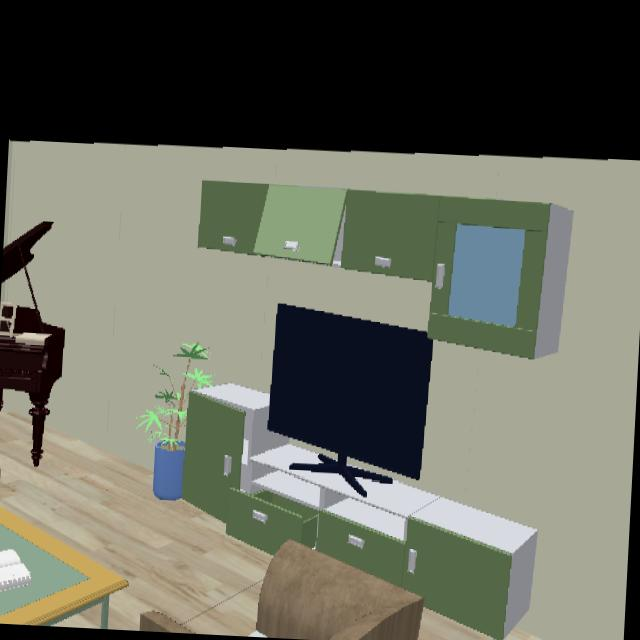book: (0, 549, 31, 588)
cabinet: (182, 385, 537, 640), (200, 182, 563, 361)
monitor: (266, 306, 433, 483)
sofa: (248, 540, 425, 640), (140, 608, 195, 634)
table: (0, 507, 129, 624)
